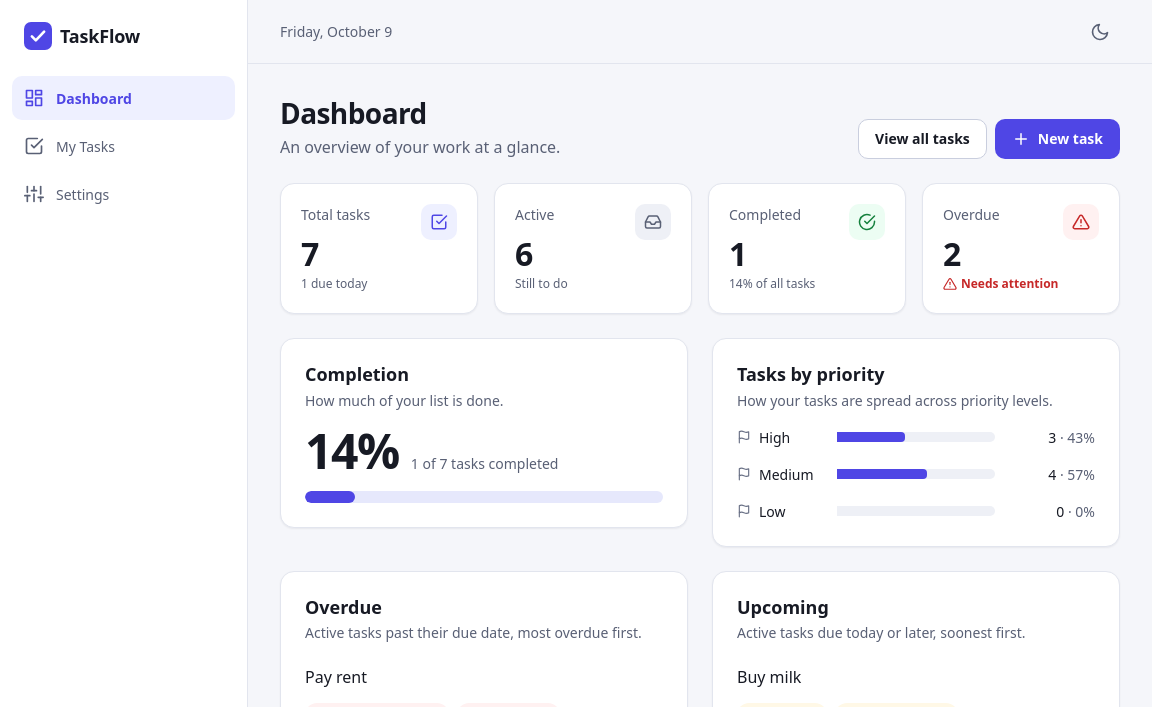
Test: quick actions and navigation › links to My Tasks from the header
The width and height of the screenshot is (1152, 707).
Click the link "View all tasks" at (922, 139), box x1=858 y1=119 x2=987 y2=159
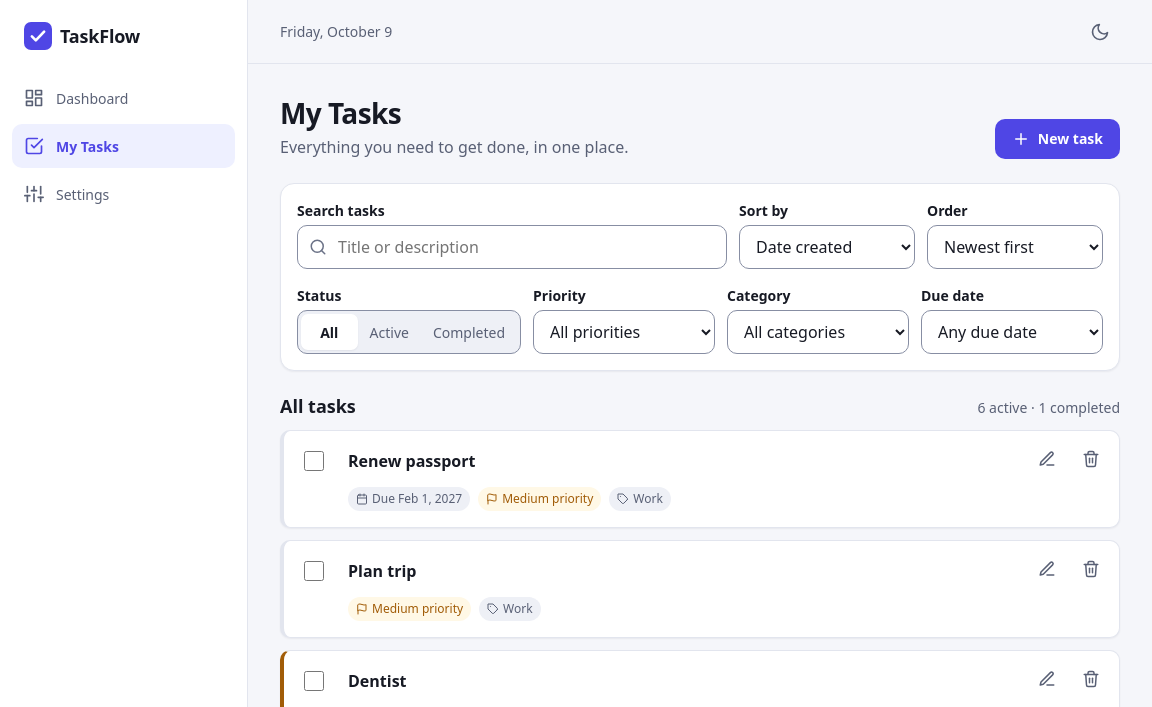
Now the heading "My Tasks" is shown, box x1=280 y1=94 x2=401 y2=132
